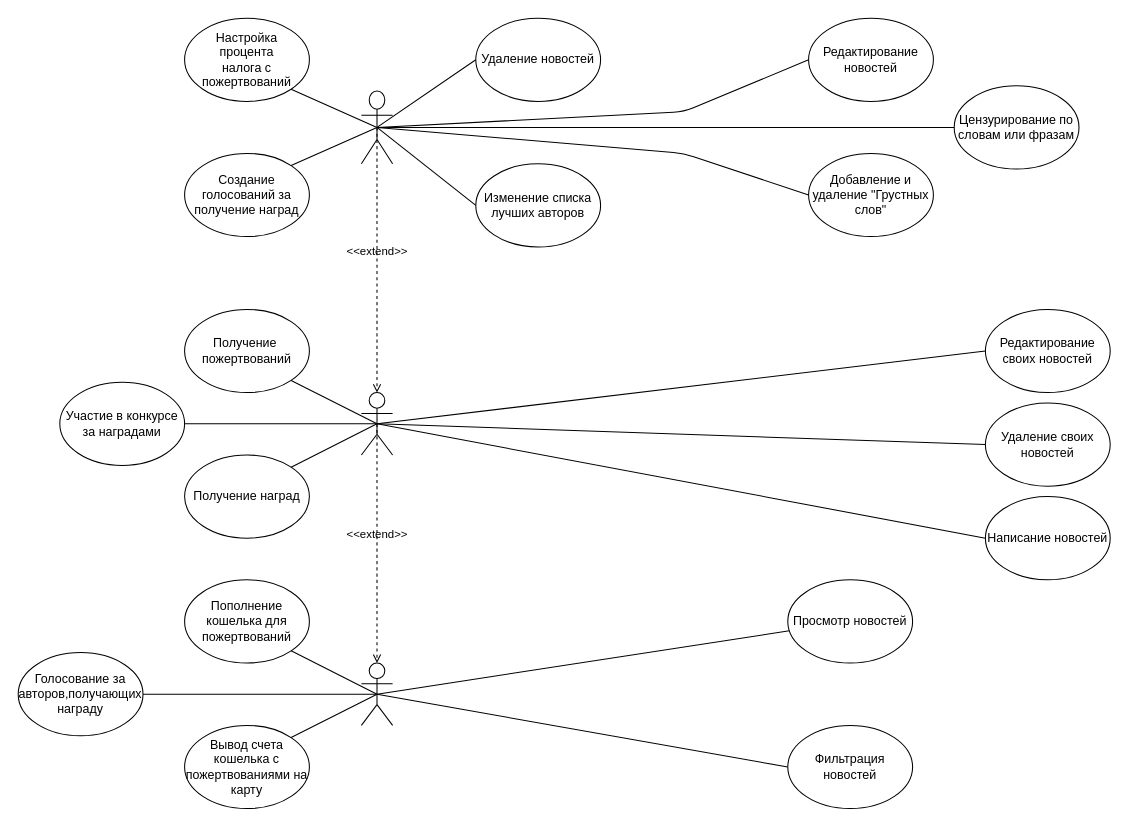
The diagram is 1128 pixels wide and 827 high, and some of its shapes have lost their labels. The box of each missing label's shape, as (x1, y1, x2, y2) in pixels:
Автор: (360, 392, 393, 455)
Администратор: (360, 90, 393, 164)
Читатель: (360, 662, 393, 725)
